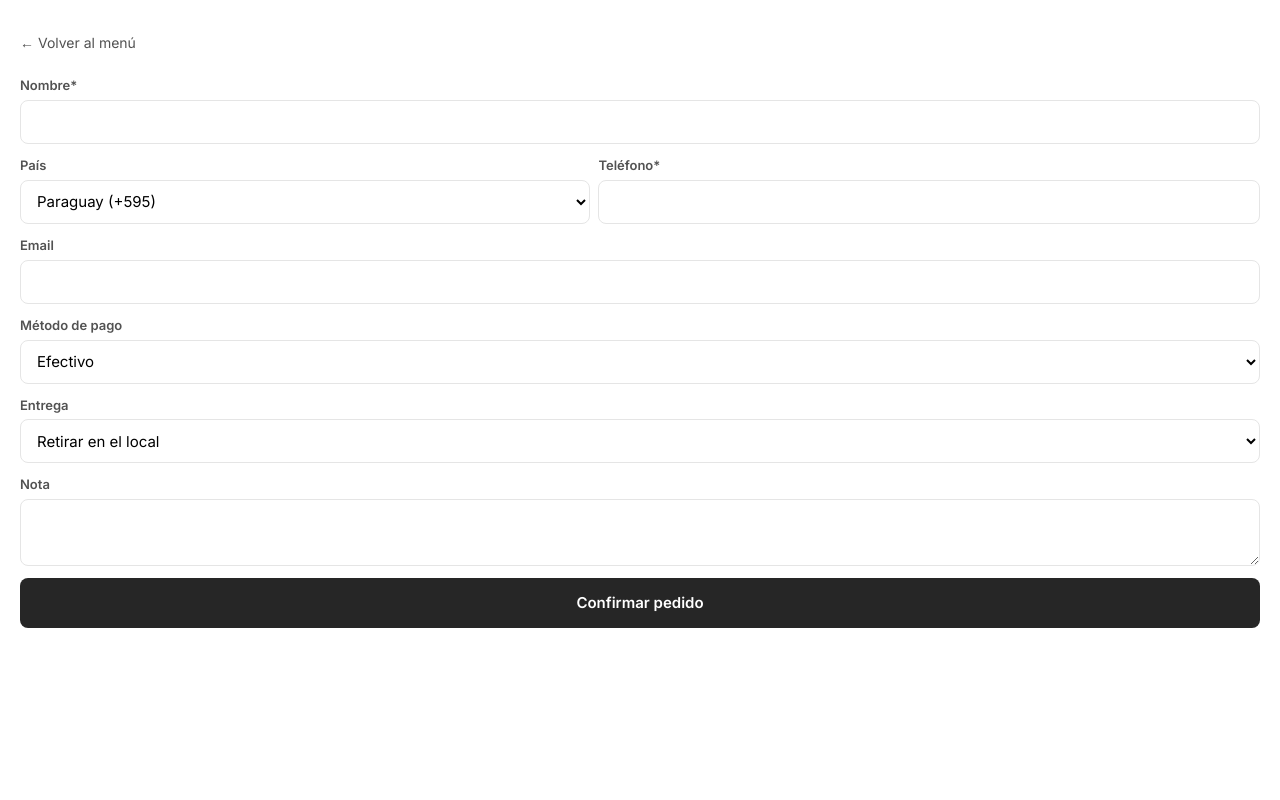
Test case: CheckoutForm (REQ: country selector + payment + delivery) › shows the delivery address field only when delivery is selected
The width and height of the screenshot is (1280, 800).
Select "Delivery" in the dropdown labelled "Entrega": (640, 441) [20,419,1260,463]
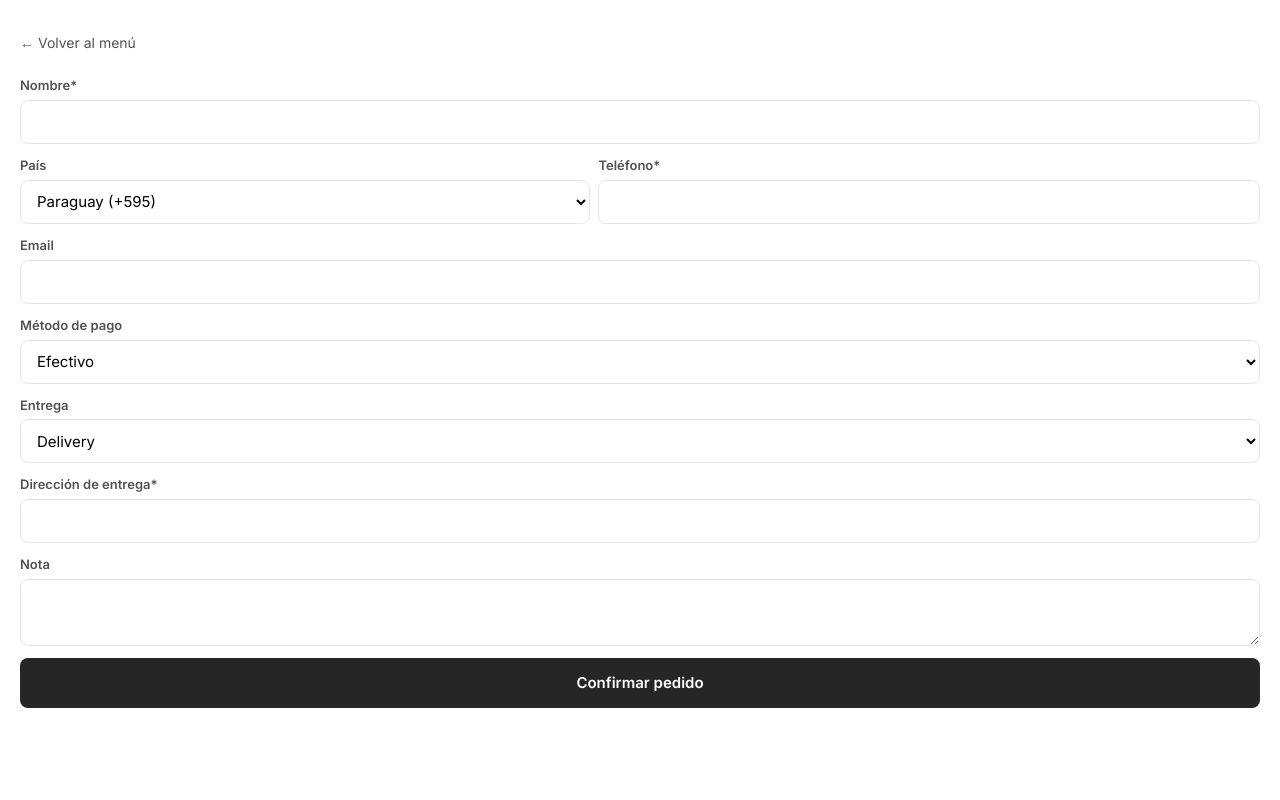
Now the field labelled "Dirección de entrega*" is shown, box [20,498,1260,543]
